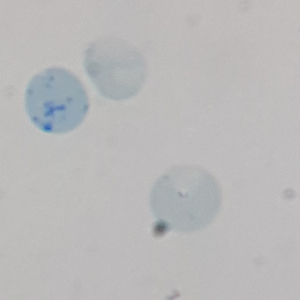aggregate reticulocyte: (23, 65, 91, 135)
erythrocyte: (147, 163, 223, 234), (82, 36, 147, 102)
